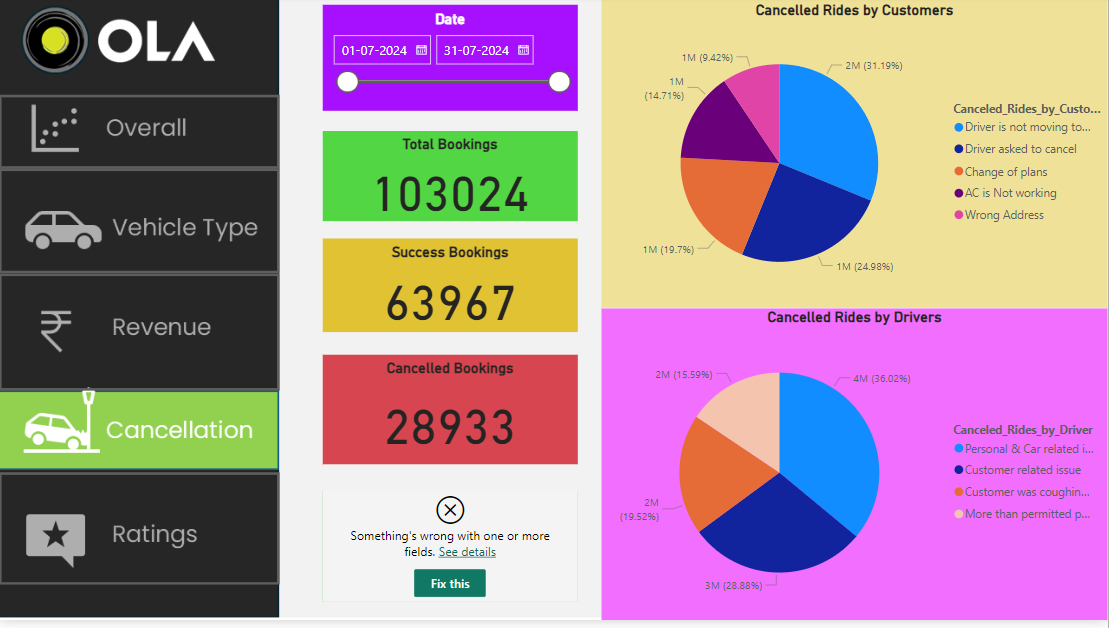

What the dashboard file says about the page in this screenshot:
{"tool":"powerbi","page":{"name":"Cancellation","canvas":[1280,720],"ordinal":3},"visuals":[{"type":"actionButton","box":[0,113.9,323.9,85.4],"z":0},{"type":"actionButton","box":[0,199.3,323.9,121],"z":1000},{"type":"actionButton","box":[0,320.4,323.9,135.3],"z":2000},{"type":"actionButton","box":[0,550,323.9,129.9],"z":3000},{"type":"pieChart","title":"Cancelled Rides by Customers","fields":{"Y":["Sum(July.Booking_Value)"],"Category":["July.Canceled_Rides_by_Customer"]},"box":[696,0,584,360],"z":4000},{"type":"pieChart","title":"Cancelled Rides by Drivers","fields":{"Y":["Sum(July.Booking_Value)"],"Category":["July.Canceled_Rides_by_Driver"]},"box":[696,360,584,360],"z":5000},{"type":"slicer","title":"Date ","fields":{"Values":["July.Date"]},"box":[374,10,294,122],"z":6000},{"type":"card","title":"Total Bookings","fields":{"Values":["Count(July.Booking_ID)"]},"box":[374,156,294,104],"z":7000},{"type":"card","title":"Success Bookings","fields":{"Values":["Count(July.Booking_ID)"]},"box":[374,280,294,108],"z":8000},{"type":"card","title":"Cancelled Bookings","fields":{"Values":["Count(July.Booking_ID)"]},"box":[374,414,294,126],"z":9000},{"type":"card","title":"Total Bookings","fields":{"Values":["July.CanceledPercentage"]},"box":[374,572,294,128],"z":10000}]}

Visuals, with their boxes on the page's 1280x720 design canvas (x1, y1, x2, y2). These are canvas units, not pixel positions in the 1114x628 screenshot, which may show the page scaled, cropped or inside an application window:
actionButton: {"left": 0, "top": 114, "right": 324, "bottom": 199}
actionButton: {"left": 0, "top": 199, "right": 324, "bottom": 320}
actionButton: {"left": 0, "top": 320, "right": 324, "bottom": 456}
actionButton: {"left": 0, "top": 550, "right": 324, "bottom": 680}
"Cancelled Rides by Customers" pieChart: {"left": 696, "top": 0, "right": 1280, "bottom": 360}
"Cancelled Rides by Drivers" pieChart: {"left": 696, "top": 360, "right": 1280, "bottom": 720}
"Date " slicer: {"left": 374, "top": 10, "right": 668, "bottom": 132}
"Total Bookings" card: {"left": 374, "top": 156, "right": 668, "bottom": 260}
"Success Bookings" card: {"left": 374, "top": 280, "right": 668, "bottom": 388}
"Cancelled Bookings" card: {"left": 374, "top": 414, "right": 668, "bottom": 540}
"Total Bookings" card: {"left": 374, "top": 572, "right": 668, "bottom": 700}
